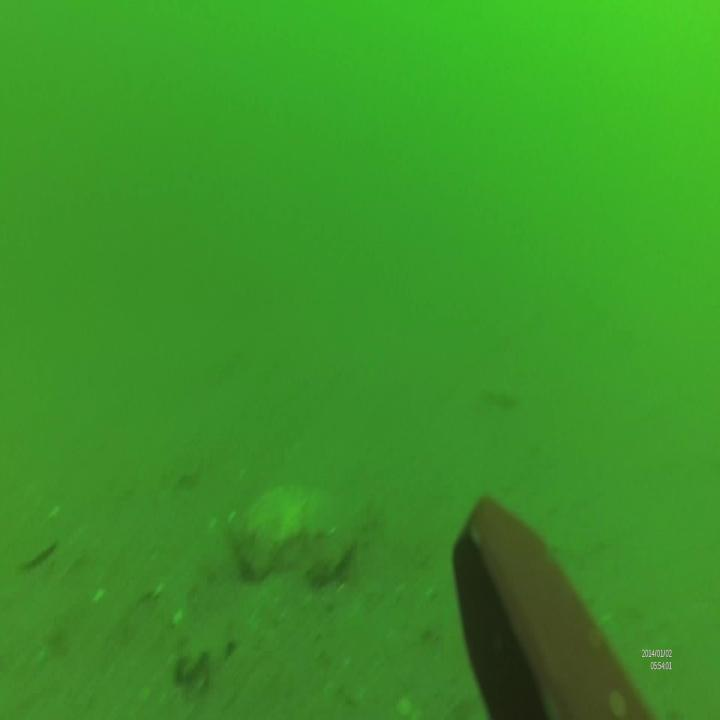scallop: (231, 486, 355, 591), (23, 539, 58, 570)
